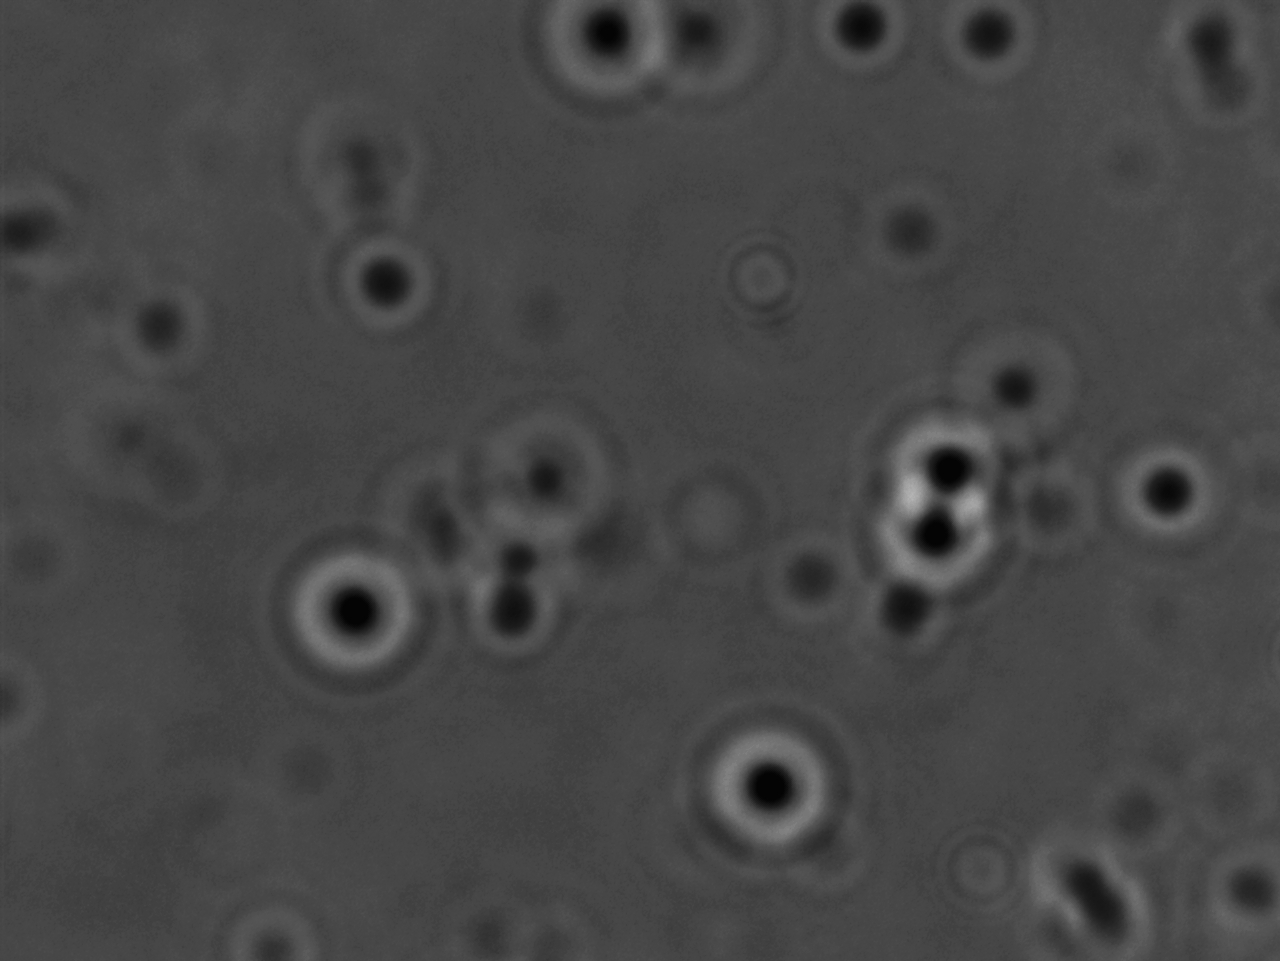depth:-32: (266, 530, 442, 699), (689, 707, 850, 863), (855, 472, 1020, 621), (878, 378, 1018, 516)
